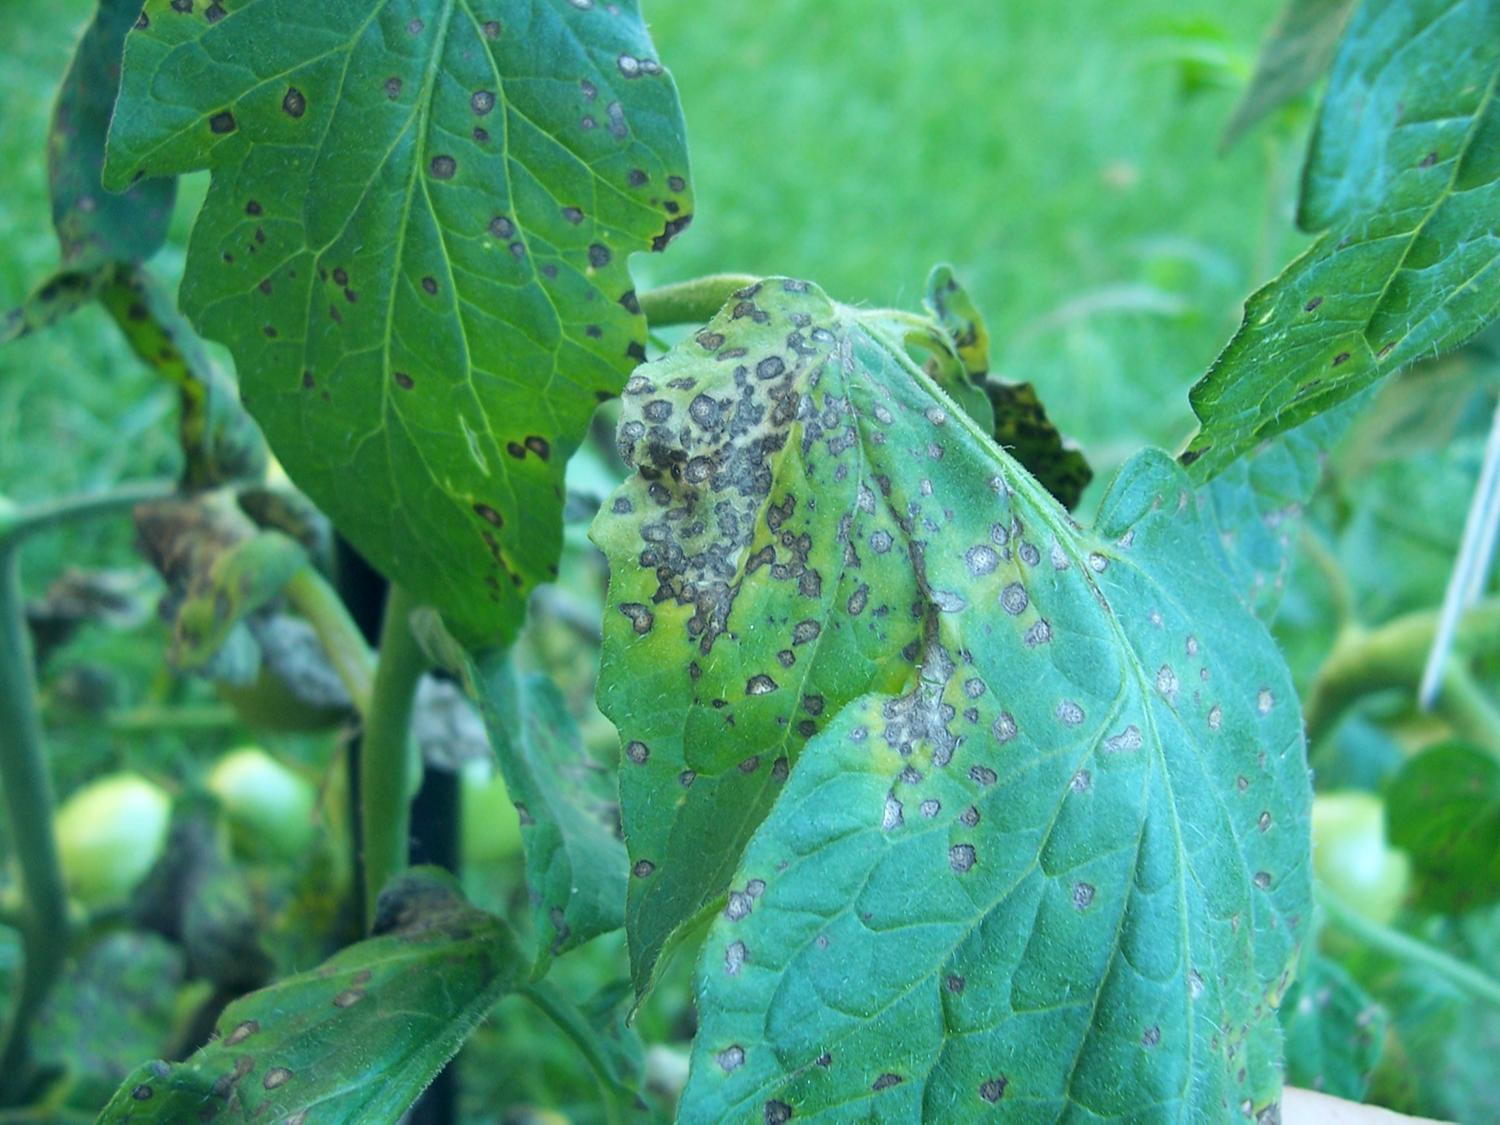Tomato Septoria leaf spot: (617, 270, 1309, 1125), (106, 1, 724, 680)
